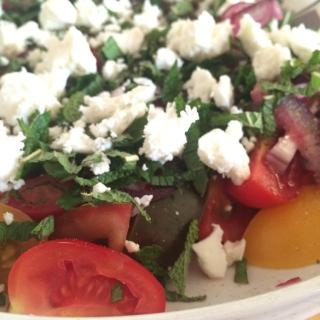tomato: (4, 238, 166, 316), (233, 136, 308, 212), (48, 203, 134, 253), (200, 178, 254, 243), (0, 175, 71, 218)
